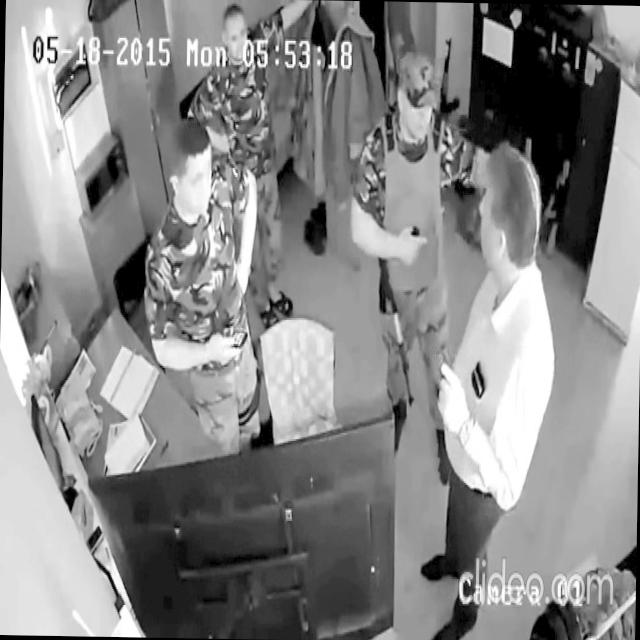gun: (373, 246, 419, 407), (546, 108, 583, 256), (437, 34, 462, 126)
person: (416, 140, 560, 640), (180, 0, 315, 326), (140, 114, 266, 457)
person with a gun: (344, 46, 491, 488)
